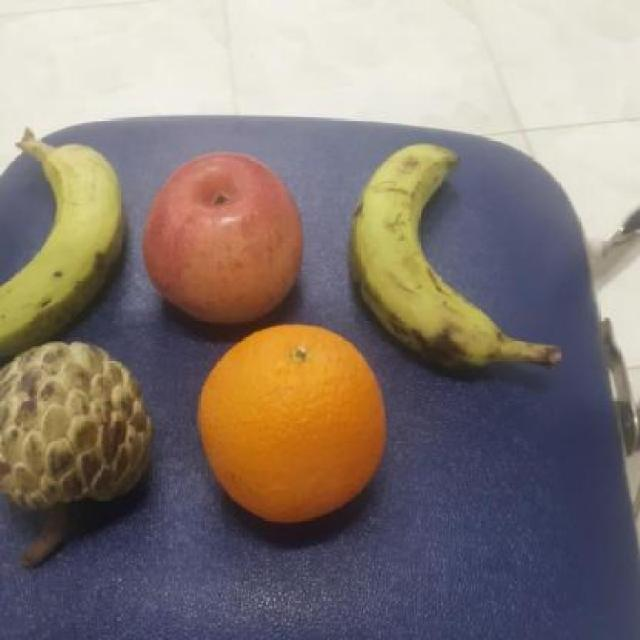apple: (137, 148, 308, 328)
banana: (343, 140, 509, 371), (1, 133, 128, 361)
oren: (191, 322, 391, 529)
sugar apple: (0, 333, 158, 515)
